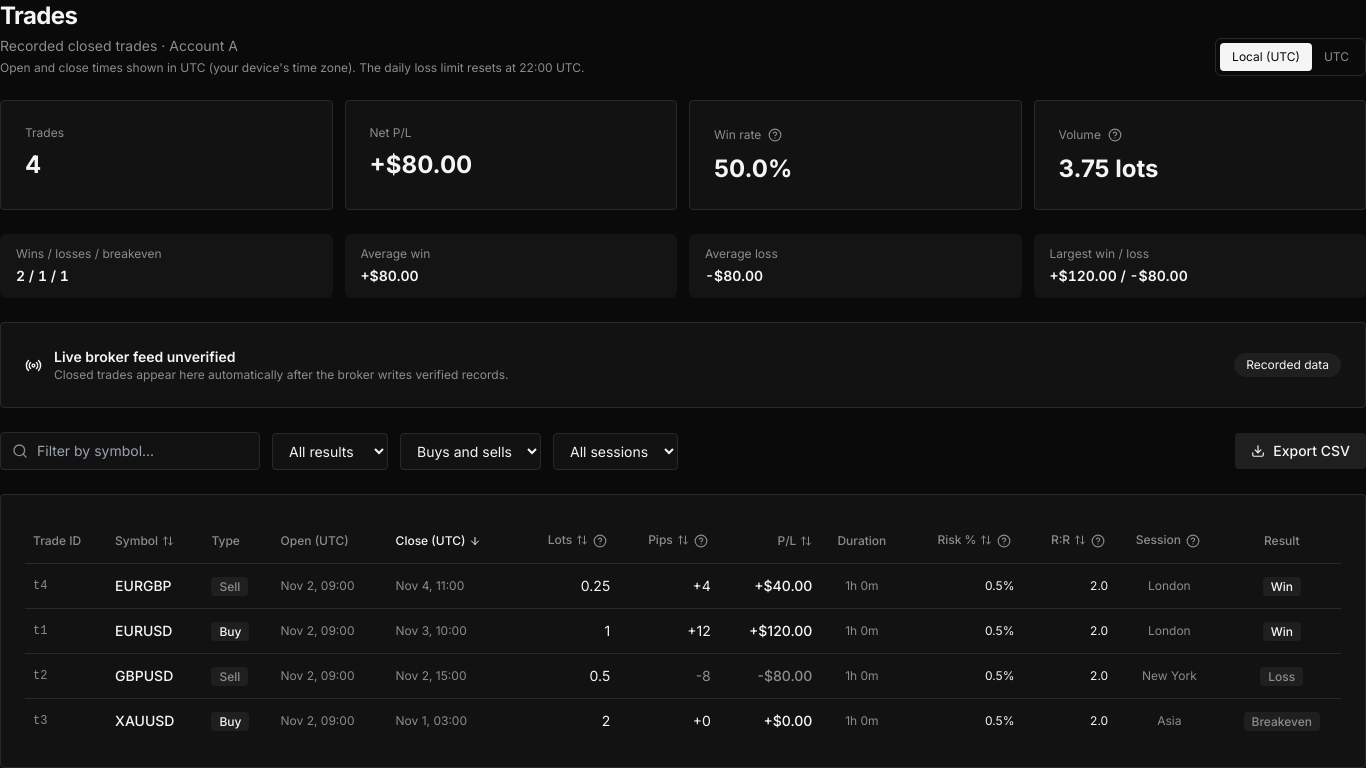
trades page › can show breakeven trades and updates the totals for the filter
The width and height of the screenshot is (1366, 768).
Later steps or results of the test are not shown.
Select "Breakeven" in the dropdown named "Filter by result": (330, 451) [272,432,388,470]
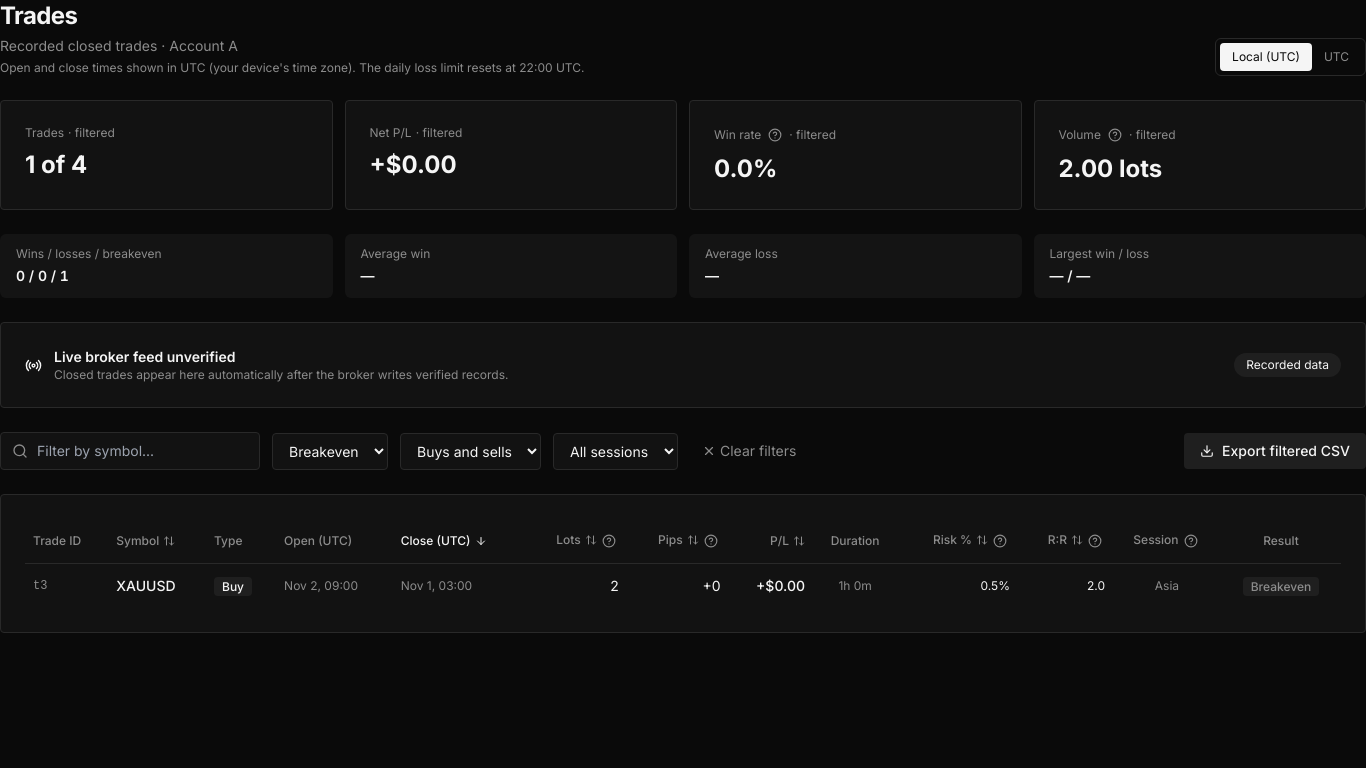
Expected: the text "1 of 4" is shown, [25,150,87,179]
